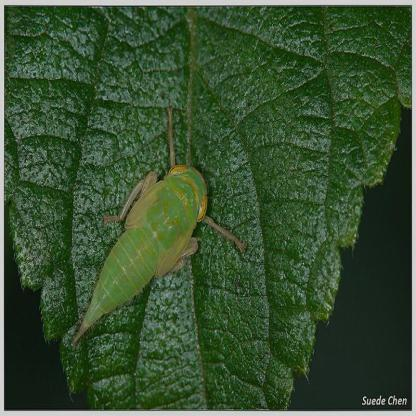green-leafhopper: (75, 156, 212, 344)
